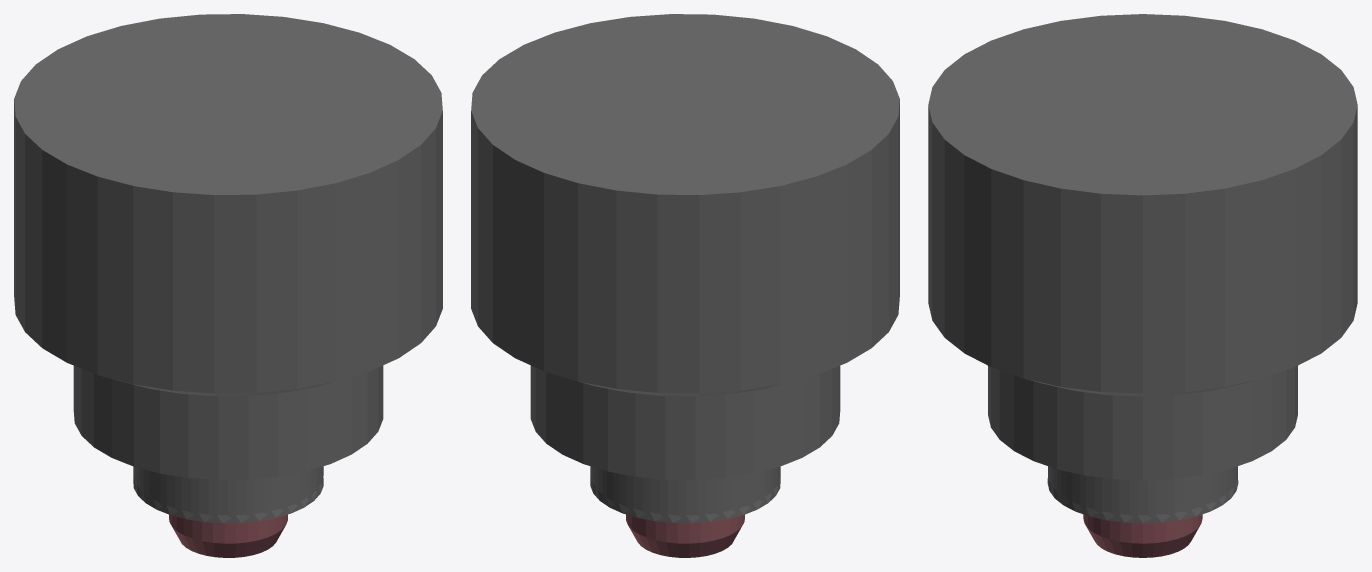
Rendered from whitechess-bottom.fbx.
The picture shows the model from 3 angles, left to right: view 1: azimuth 30°, elevation 25°; view 2: azimuth 150°, elevation 25°; view 3: azimuth 270°, elevation 25°; orthographic projection.
Visible parts, largest first — view 1: leg.top, leg.mid, leg.bottom, point; view 2: leg.top, leg.mid, leg.bottom, point; view 3: leg.top, leg.mid, leg.bottom, point.
Part boxes in pixels (left/top/right/bottom): leg.top: left=14, top=14, right=442, bottom=396; leg.mid: left=73, top=365, right=383, bottom=479; leg.bottom: left=133, top=466, right=323, bottom=523; point: left=169, top=514, right=287, bottom=557; leg.top: left=471, top=14, right=899, bottom=396; leg.mid: left=530, top=365, right=840, bottom=479; leg.bottom: left=590, top=466, right=780, bottom=523; point: left=626, top=514, right=744, bottom=557; leg.top: left=928, top=14, right=1357, bottom=396; leg.mid: left=988, top=366, right=1297, bottom=480; leg.bottom: left=1047, top=466, right=1238, bottom=523; point: left=1083, top=514, right=1202, bottom=557.
Size of the model in its own units: 360 by 400 by 360.
